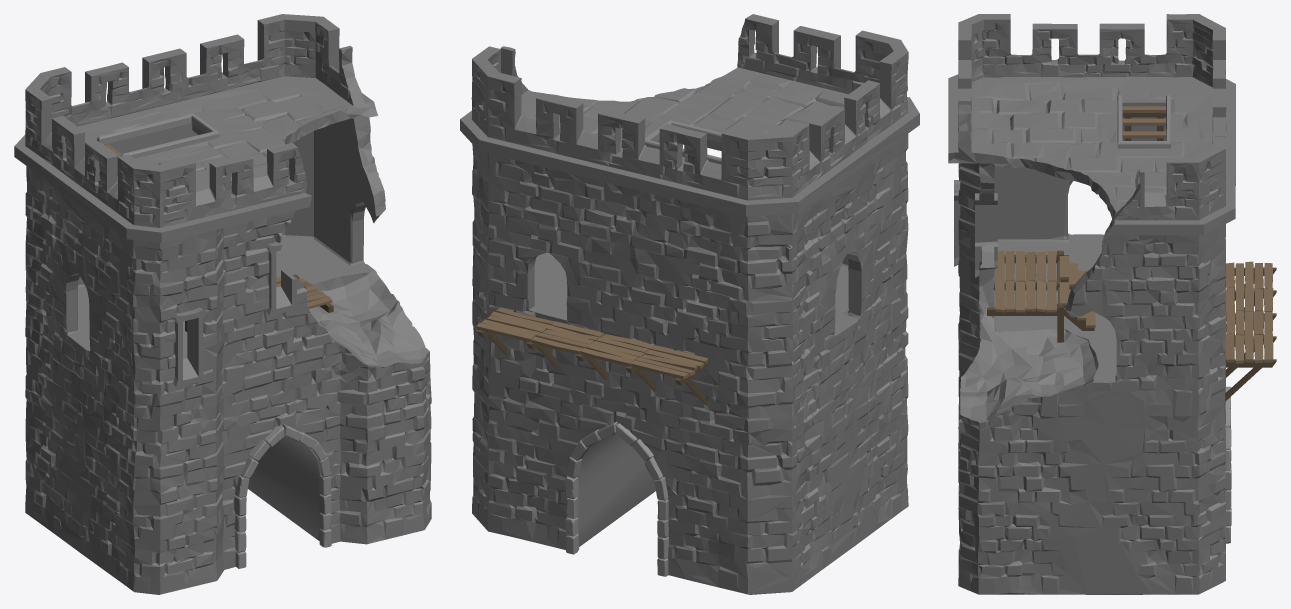
File: castle_gate_house_c_destroyed.FBX
The picture shows the model from 3 angles, left to right: view 1: azimuth 30°, elevation 25°; view 2: azimuth 150°, elevation 25°; view 3: azimuth 270°, elevation 25°; orthographic projection. The views are drawn at different scales.
Parts seen in each view (by area): view 1: castle_gate_house_c_destroyed; view 2: castle_gate_house_c_destroyed; view 3: castle_gate_house_c_destroyed.
Part boxes in pixels (x1=…): castle_gate_house_c_destroyed: x1=14, y1=14, x2=431, y2=594; castle_gate_house_c_destroyed: x1=460, y1=14, x2=919, y2=594; castle_gate_house_c_destroyed: x1=948, y1=14, x2=1276, y2=594.
Bounding box in the file's own units: 11.12 × 14.27 × 9.81.
